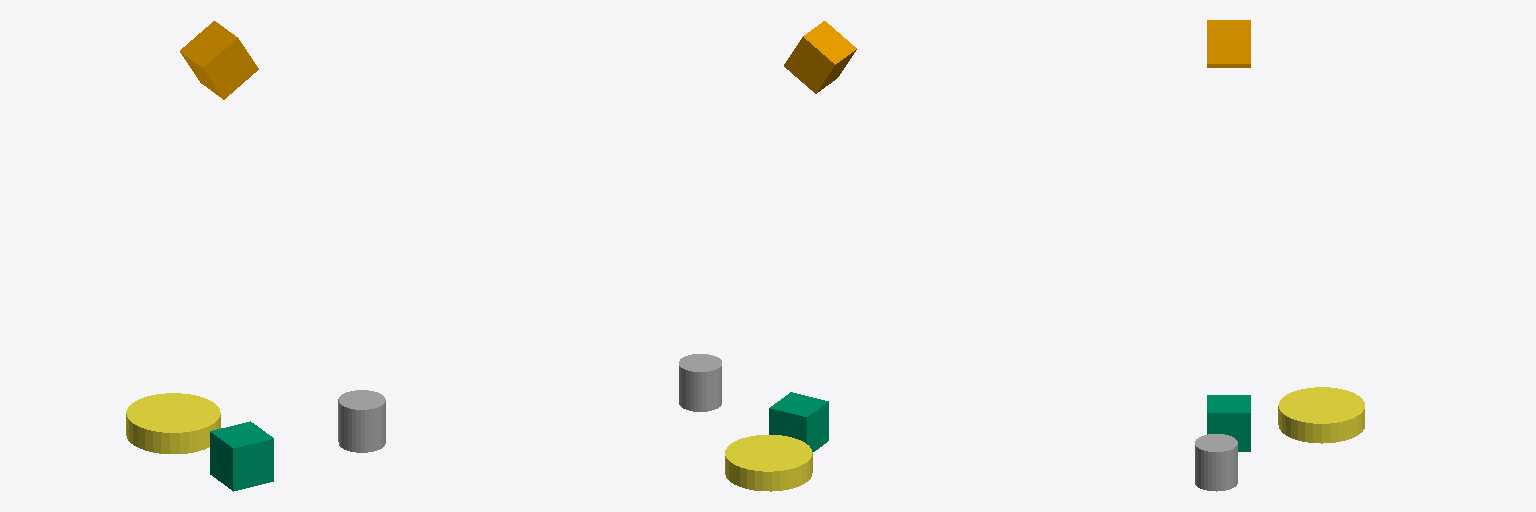
URDF robot description (Jaymii):
 <robot name="Jaymii" xmlns:xacro="http://www.ros.org/wiki/xacro">
  <link name="base_footprint" />
  <!--
  <link name="body">
    <inertial>
      <origin xyz="0 0 0" />
      <mass value="50.0" />
      <inertia  ixx="0.0" ixy="0.0"  ixz="1.0"  iyy="0.0"  iyz="0.0"  izz="0.0" />
    </inertial>
    <visual>
      <origin rpy="0 0 0" xyz="0 0 0"/>
      <geometry>
        <mesh filename="model://urdf/meshes/Body.dae"/>
      </geometry>
    </visual>
    <collision>
      <geometry>
        <mesh filename="model://urdf/meshes/Body.dae"/>
      </geometry>
    </collision>
  </link>
-->
  <!-- base link must have geometry so its axis display in rviz-->
  <link name="base_link">
    <visual>
      <geometry>
        <box size="0.01 0.01 0.01"/>
      </geometry>
    </visual>
  </link>
  <gazebo reference="base_link">
    <material>Gazebo/Grey</material>
  </gazebo>

  <gazebo reference="body">
    <material>Gazebo/Grey</material>
    <mu1>0.2</mu1>
    <mu2>0.2</mu2>
  </gazebo>
  <link name="axle">
    <inertial>
      <origin xyz="0 0 0" />
      <mass value="1.0" />
      <inertia  ixx="0.0" ixy="0.0"  ixz="1.0"  iyy="-0.066042"  iyz="0.0"  izz="0.0" />
    </inertial>
    <visual>
      <geometry>
        <mesh filename="model://urdf/meshes/Axle.dae"/>
      </geometry>
    </visual>
    <collision>
      <geometry>
        <mesh filename="model://urdf/meshes/Axle.dae"/>
      </geometry>
    </collision>
  </link>
  <link name="left_wheel">
    <inertial>
      <origin xyz="0 0 0" />
      <mass value="1.0" />
      <inertia  ixx="0.994968" ixy="-0.100194"  ixz="0.0"  iyy="0.994968"  iyz="0.0"  izz="-1.0" />
    </inertial>
    <visual>
      <geometry>
        <mesh filename="model://urdf/meshes/Wheel.dae"/>
      </geometry>
    </visual>
    <collision>
      <geometry>
        <mesh filename="model://urdf/meshes/Wheel.dae"/>
      </geometry>
    </collision>
  </link>
  <gazebo reference="left_wheel">
    <material>Gazebo/Grey</material>
    <mu1>0.7</mu1>
    <mu2>0.75</mu2>
  </gazebo>
  <link name="right_wheel">
    <inertial>
      <origin xyz="0 0 0" />
      <mass value="1.0" />
      <inertia  ixx="0.994968" ixy="-0.100194"  ixz="0.0"  iyy="0.994968"  iyz="0.0"  izz="-1.0" />
    </inertial>
    <visual>
      <geometry>
        <mesh filename="model://urdf/meshes/Wheel.dae"/>
      </geometry>
    </visual>
    <collision>
      <geometry>
        <mesh filename="model://urdf/meshes/Wheel.dae"/>
      </geometry>
    </collision>
  </link>
  <gazebo reference="right_wheel">
    <material>Gazebo/Grey</material>
    <mu1>0.7</mu1>
    <mu2>0.75</mu2>
  </gazebo>
  <link name="front_ball">
    <inertial>
      <origin xyz="0 0 0" />
      <mass value="1.0" />
      <inertia  ixx="0.0" ixy="-0.0000004"  ixz="0.1"  iyy="0.0"  iyz="-0.0000004"  izz="0.0" />
    </inertial>
    <visual>
      <geometry>
        <mesh filename="model://urdf/meshes/Sphere.dae"/>
      </geometry>
    </visual>
    <collision>
      <geometry>
        <mesh filename="model://urdf/meshes/Sphere.dae"/>
      </geometry>
    </collision>
  </link>
  <link name="back_ball">
    <inertial>
      <origin xyz="0 0 0" />
      <mass value="1.0" />
      <inertia  ixx="0.0" ixy="-0.0000004"  ixz="0.1"  iyy="0.0"  iyz="-0.0000004"  izz="0.0" />
    </inertial>
    <visual>
      <geometry>
        <mesh filename="model://urdf/meshes/Sphere.dae"/>
      </geometry>
    </visual>
    <collision>
      <geometry>
        <mesh filename="model://urdf/meshes/Sphere.dae"/>
      </geometry>
    </collision>
  </link>
  <link name="lidar">
    <visual>
      <geometry>
        <cylinder radius="0.05" length="0.1"/>
      </geometry>
    </visual>
  </link>
  <gazebo reference="lidar">
    <sensor type="ray" name="lidar">
      <visualize>true</visualize>
      <update_rate>10</update_rate>
      <ray>
        <!-- Use gaussian noise -->
        <!--
        <noise>
        <type>gaussian</type>
        <mean>0.0</mean>
        <stddev>0.02</stddev>
      </noise>
      -->
        <scan>
          <horizontal>
            <samples>100</samples>
            <resolution>3.6</resolution>
            <min_angle>-3.14159265359</min_angle>
            <max_angle>3.14159265359</max_angle>
          </horizontal>
        </scan>
        <range>
          <min>0.05</min>
          <max>30</max>
          <resolution>0.02</resolution>
        </range>
      </ray>
      <plugin name="lidar_plugin" filename="libgazebo_ros_laser.so">
        <topicName>/scan</topicName>
        <frameName>/lidar</frameName>
      </plugin>
    </sensor>
  </gazebo>
  <link name="usb_cam_center">
    <visual>
      <geometry>
        <box size="0.1 0.1 0.1"/>
      </geometry>
    </visual>
  </link>
  <link name="optical_cam_center"/>
  <gazebo reference="usb_cam_center">
    <sensor name="center_camera" type="camera">
        <camera>
          <horizontal_fov>1.2290609</horizontal_fov>
          <image>
            <width>1920</width>
            <height>1080</height>
          </image>
          <clip>
            <near>0.1</near>
            <far>100</far>
          </clip>
          <!--
          <distortion>
            <k1>-0.25</k1>
            <k2>0.12</k2>
            <k3>0.0</k3>
            <p1>-0.00028</p1>
            <p2>-0.00005</p2>
            <center>0.5 0.5</center>
          </distortion>
          -->
        </camera>
        <always_on>1</always_on>
        <update_rate>30</update_rate>
        <plugin name="camera_controller" filename="libgazebo_ros_camera.so">
          <alwaysOn>true</alwaysOn>
          <updateRate>30.0</updateRate>
          <cameraName>usb_cam_center</cameraName>
          <imageTopicName>image_raw</imageTopicName>
          <cameraInfoTopicName>camera_info</cameraInfoTopicName>
          <frameName>optical_cam_center</frameName>
          <hackBaseline>0.0</hackBaseline>
          <distortionK1>0.0</distortionK1>
          <distortionK2>0.0</distortionK2>
          <distortionK3>0.0</distortionK3>
          <distortionT1>0.0</distortionT1>
          <distortionT2>0.0</distortionT2>
        </plugin>
      </sensor>
  </gazebo>
  <link name="imu">
    <visual>
      <geometry>
        <box size="0.1 0.1 0.1"/>
      </geometry>
    </visual>
  </link>
  <link name="gps">
    <visual>
      <geometry>
        <cylinder length="0.05" radius="0.1"/>
      </geometry>
    </visual>
  </link>
  <gazebo>
    <plugin name="gazebo_ros_control" filename="libgazebo_ros_control.so">
      <robotSimType>gazebo_ros_control/DefaultRobotHWSim</robotSimType>
    </plugin>
    <plugin filename="libhector_gazebo_ros_imu.so" name="imu">
      <serviceName>/imu/calibrate</serviceName>
      <updateRate>200.0</updateRate>
      <bodyName>imu</bodyName>
      <frameId>imu</frameId>
      <topicName>/imu</topicName>
      <rpyOffset>0 0 0</rpyOffset>
      <xyzOffset>0 0 0</xyzOffset>
      <gaussianNoise>0.00000001</gaussianNoise>
      <accelDrift>0.00000001 0.00000001 0.00000001</accelDrift>
      <accelDriftFrequency>0.00000001 0.00000001 0.00000001</accelDriftFrequency>
      <accelGaussianNoise>0.00000001 0.00000001 0.00000001</accelGaussianNoise>
      <rateDrift>0.0 0.0 0.0</rateDrift>
      <rateDriftFrequency>0.0 0.0 0.0</rateDriftFrequency>
      <rateGaussianNoise>0.0 0.0 0.0</rateGaussianNoise>
      <headingDrift>0.0 0.0 0.0</headingDrift>
      <headingDriftFrequency>0.0 0.0 0.0</headingDriftFrequency>
      <headingGaussianNoise>0.0 0.0 0.0</headingGaussianNoise>
      <yawOffset>1.5707963</yawOffset>
    </plugin>
    <plugin filename="libhector_gazebo_ros_gps.so" name="gps">
      <updateRate>20.0</updateRate>
      <bodyName>base_link</bodyName>
      <frameId>base_link</frameId>
      <topicName>/fix</topicName>
      <velocityTopicName>/fix_velocity</velocityTopicName>
      <referenceLatitude>33.774497</referenceLatitude>
      <referenceLongitude>-84.405001</referenceLongitude>
      <referenceAltitude>309.0</referenceAltitude>
      <drift>0.001 0.001 0.001</drift>
      <gaussianNoise>0.0001 0.0001 0.0001</gaussianNoise>
      <velocityDrift>0 0 0</velocityDrift>
      <velocityGaussianNoise>0.005 0.005 0.05</velocityGaussianNoise>
    </plugin>
  </gazebo>

  <transmission name="trans_left_wheel">
    <type>transmission_interface/SimpleTransmission</type>
    <joint name="axle_to_left_wheel">
      <hardwareInterface>hardware_interface/EffortJointInterface</hardwareInterface>
    </joint>
    <actuator name="motor1">
      <hardwareInterface>hardware_interface/EffortJointInterface</hardwareInterface>
      <mechanicalReduction>1</mechanicalReduction>
    </actuator>
  </transmission>
  <transmission name="trans_right_wheel">
    <type>transmission_interface/SimpleTransmission</type>
    <joint name="axle_to_right_wheel">
      <hardwareInterface>hardware_interface/EffortJointInterface</hardwareInterface>
    </joint>
    <actuator name="motor1">
      <hardwareInterface>hardware_interface/EffortJointInterface</hardwareInterface>
      <mechanicalReduction>1</mechanicalReduction>
    </actuator>
  </transmission>

<joint name="base_link_to_imu" type="fixed">
    <parent link="base_link"/>
    <child link="imu"/>
    <origin xyz="0 0 0" rpy="0 0 0"/>
    <axis xyz="0 0 0"/>
  </joint>
  <joint name="imu_to_axle" type="fixed">
    <parent link="imu"/>
    <child link="axle"/>
    <origin xyz="-.287 -.003 -.465" rpy="1.5708 0 0"/>
    <axis xyz="0 0 0"/>
  </joint>
  <joint name="imu_to_base_footprint" type="fixed">
    <parent link="imu"/>
    <child link="base_footprint"/>
    <origin xyz="0 0 -.633" rpy="0 0 0"/>
    <axis xyz="0 0 0"/>
  </joint>
  <joint name="imu_to_lidar" type="fixed">
    <origin xyz=".276 -.029 .029" rpy="0 0 0" />
    <parent link="imu"/>
    <child link="lidar"/>
  </joint>
  <joint name="imu_to_center_camera" type="fixed">
    <origin xyz="-.056 0 .937" rpy="0 1.03 0" />
    <parent link="imu"/>
    <child link="usb_cam_center"/>
  </joint>
  <joint name="axle_to_left_wheel" type="fixed">
    <origin xyz="0 0 -.39" rpy="0 0 3.141" />
    <parent link="axle"/>
    <child link="left_wheel"/>
  </joint>
  <joint name="axle_to_right_wheel" type="fixed">
    <origin xyz="0 0 .39" rpy="0 0 0" /> <!-- -1.5708 -->
    <parent link="axle"/>
    <child link="right_wheel"/>
  </joint>
  <joint name="imu_to_gps" type="fixed">
    <origin xyz="-.044 .214 0" rpy="0 0 0" /> <!-- -1.5708 -->
    <parent link="imu"/>
    <child link="gps"/>
  </joint>
  <!--
  <joint name="imu_to_body" type="fixed">
    <origin xyz="-.5 -.5 0" rpy="0 0 0" /> -1.5708
    <parent link="imu"/>
    <child link="body"/>
  </joint>
-->
  <!--must have a joint so it is not assumed to be the base link but the ball joint not in URDF must add it in gazebo tag-->
  <joint name="imu_to_front_ball" type="floating">
    <parent link="imu"/>
    <child link="front_ball"/>
    <origin xyz=".39 0 -.53" rpy="0 0 0" />
  </joint>
  <joint name="imu_to_back_ball" type="floating">
    <parent link="imu"/>
    <child link="back_ball"/>
    <origin xyz="-.39 0 -.53" rpy="0 0 0" />
  </joint>
  <joint name="optical_cam_center_joint" type="fixed">
    <parent link="usb_cam_center"/>
    <child link="optical_cam_center"/>
    <origin xyz="0 0 0" rpy="-1.5708 0 -1.5708"/>
  </joint>
  <gazebo>
    <joint name='imu_to_back_ball' type='ball'>
      <parent>imu</parent>
      <child>back_ball</child>
      <pose frame=''>0 0 0 0 0 0</pose>
      <physics>
        <ode>
          <limit>
            <cfm>0</cfm>
            <erp>0.2</erp>
          </limit>
          <suspension>
            <cfm>0</cfm>
            <erp>0.2</erp>
          </suspension>
        </ode>
      </physics>
    </joint>
    <joint name='imu_to_front_ball' type='ball'>
      <parent>imu</parent>
      <child>front_ball</child>
      <pose frame=''>0 0 0 0 0 0</pose>
      <physics>
        <ode>
          <limit>
            <cfm>0</cfm>
            <erp>0.2</erp>
          </limit>
          <suspension>
            <cfm>0</cfm>
            <erp>0.2</erp>
          </suspension>
        </ode>
      </physics>
    </joint>
  </gazebo>
</robot>

--- Facts derived from the render (not from the file) ---
The picture shows the robot from 3 angles, left to right: view 1: azimuth 30°, elevation 25°; view 2: azimuth 150°, elevation 25°; view 3: azimuth 270°, elevation 25°; orthographic projection.
Robot: Jaymii — 12 links, 11 joints (9 fixed, 2 floating); root link base_link; default pose: all joints at 0.
Links seen in each view (by area): view 1: gps, imu, usb_cam_center, lidar; view 2: gps, usb_cam_center, imu, lidar; view 3: gps, lidar, usb_cam_center, imu.
Link boxes in pixels (bbox=[...]): gps: bbox=[126, 393, 220, 453]; imu: bbox=[210, 421, 273, 491]; usb_cam_center: bbox=[180, 21, 258, 99]; lidar: bbox=[338, 390, 385, 452]; gps: bbox=[725, 435, 812, 491]; usb_cam_center: bbox=[784, 21, 856, 93]; imu: bbox=[769, 392, 828, 451]; lidar: bbox=[679, 354, 721, 411]; gps: bbox=[1278, 387, 1364, 443]; lidar: bbox=[1195, 434, 1237, 491]; usb_cam_center: bbox=[1207, 20, 1250, 67]; imu: bbox=[1207, 395, 1250, 451].
Bounding box of the posed robot: 0.47 × 0.393 × 1.06 m (x, y, z).
0 mesh visuals loaded from 3 distinct referenced files (none loaded); not drawn: 5 (file found but could not be loaded).
